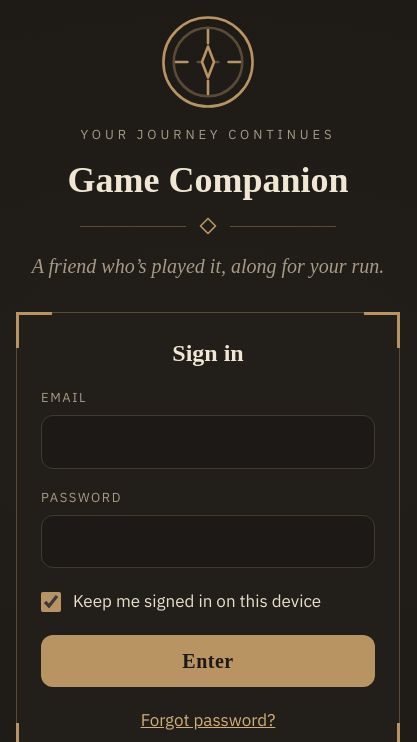
Test: SignInPage › returns to the remembered page after signing in
The image size is (417, 742).
Expected: the heading "Sign in" is shown, [172,340,244,366]
Step 1. Type "vaela@example.com" into the field labelled "Email" → (208, 442), box [41,415,375,469]
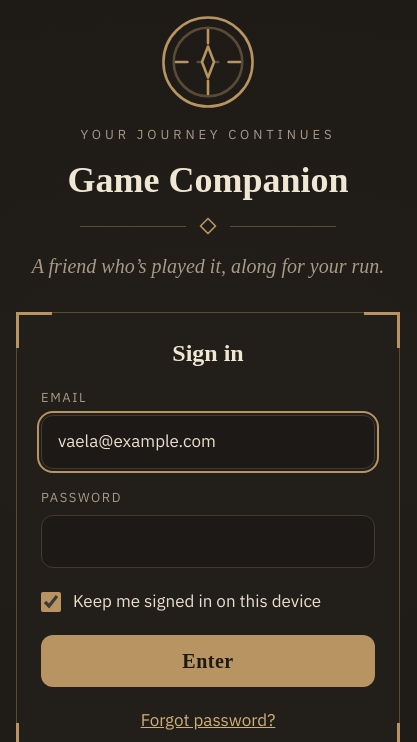
Step 2. Type "stub-password" into the password field labelled "Password" → (208, 541), box [41,515,375,568]
Then press Enter
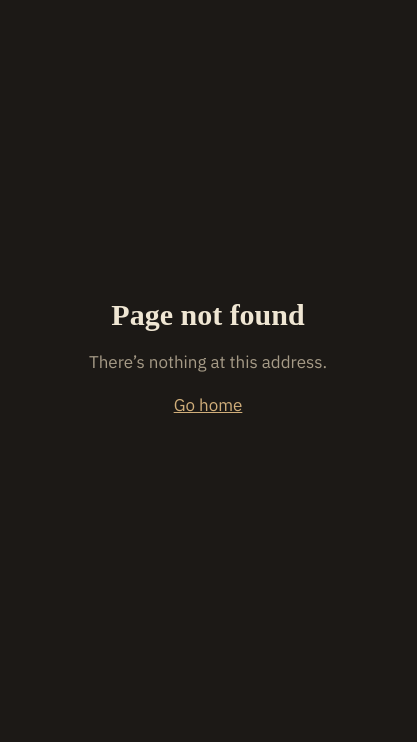
Expected: the heading "Page not found" is shown, [111,297,305,333]
